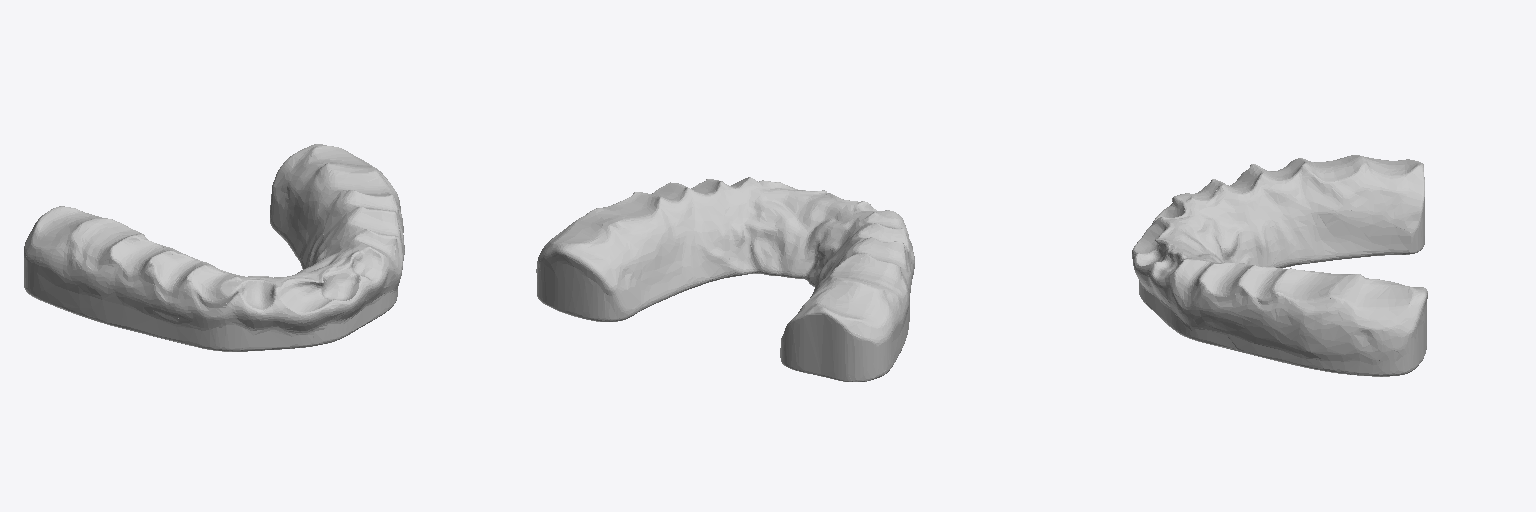
Rendered from dentures-gums.obj.
3 views of the same model, side by side, from view 1: azimuth 30°, elevation 25°; view 2: azimuth 150°, elevation 25°; view 3: azimuth 270°, elevation 25° (orthographic).
Parts seen in each view (by area): view 1: objdefault; view 2: objdefault; view 3: objdefault.
Part boxes in pixels (x1,y1,x2,y2): objdefault: (24,144,404,351); objdefault: (536,177,914,381); objdefault: (1132,155,1427,376).
Bounding box in the file's own units: 66.18 × 13.97 × 48.9.